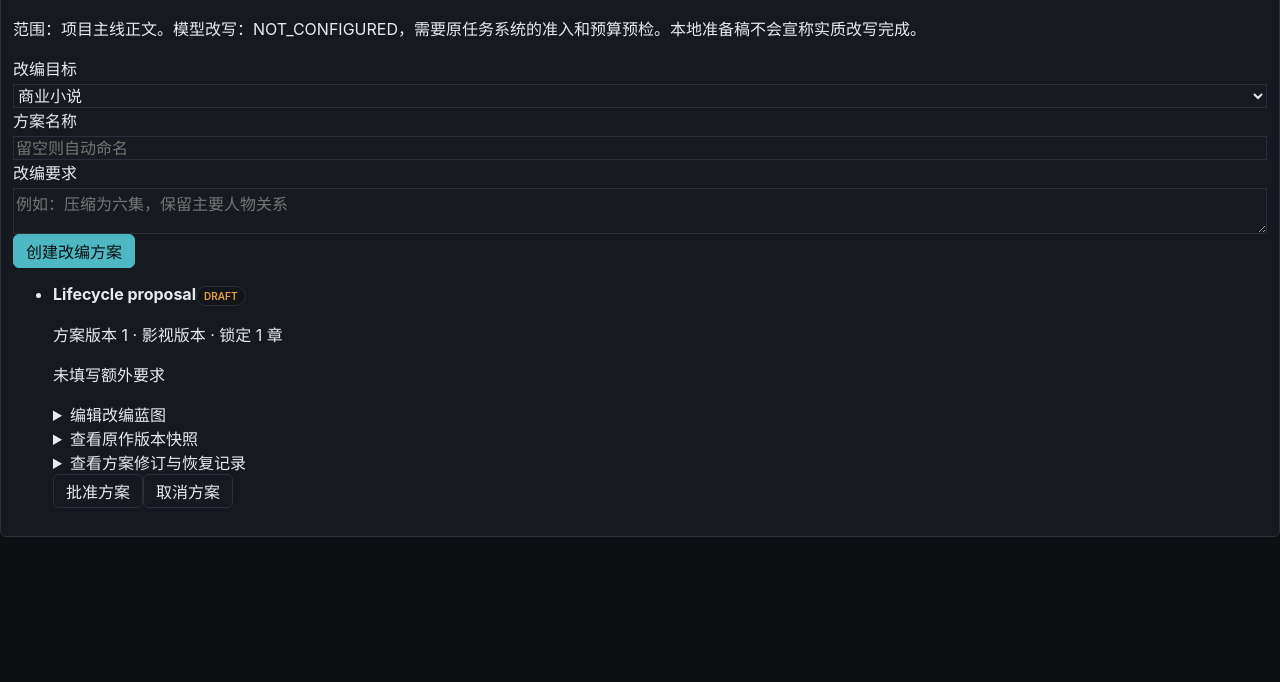
releases pending state after a failed save without losing or silently rebasing the local edit
Expected: the text "Lifecycle proposal" is shown, top-left (53, 284), bottom-right (196, 304)
Click the heading "编辑改编蓝图" at (118, 415), box top-left (70, 405), bottom-right (166, 425)
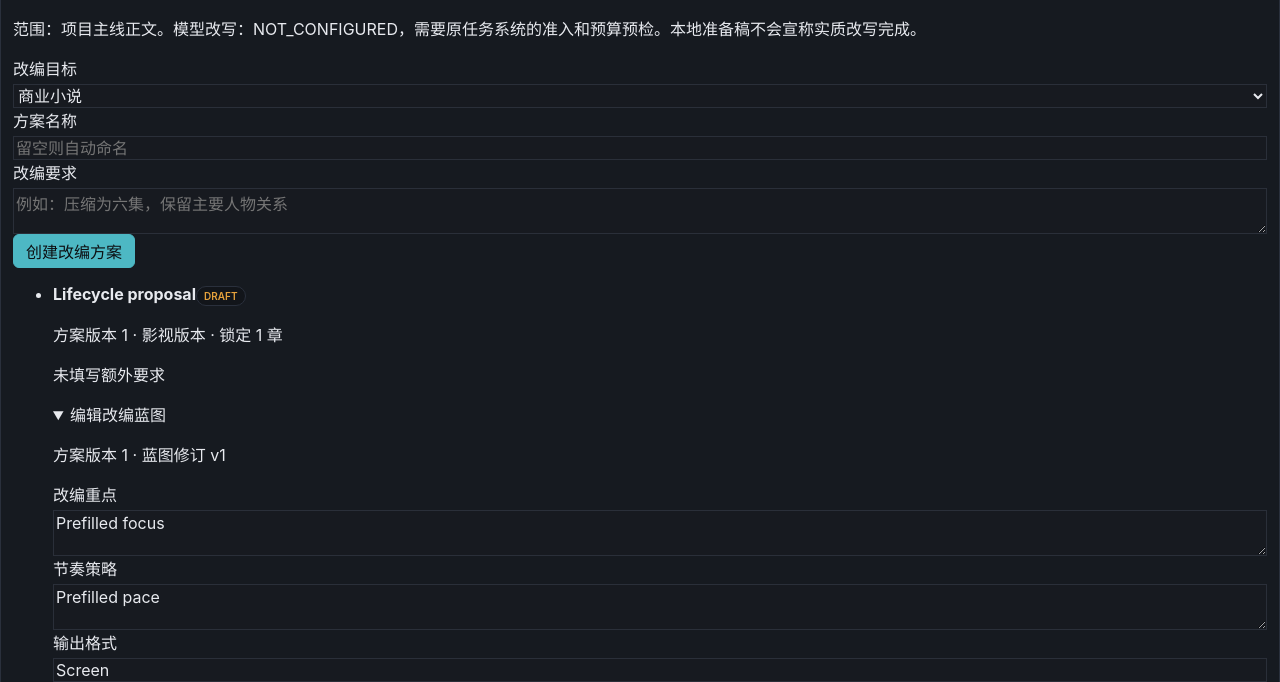
Replace the text in the text box labelled "改编重点" with "Preserve this draft" at (660, 533), box top-left (53, 510), bottom-right (1267, 556)
(page scrolled)
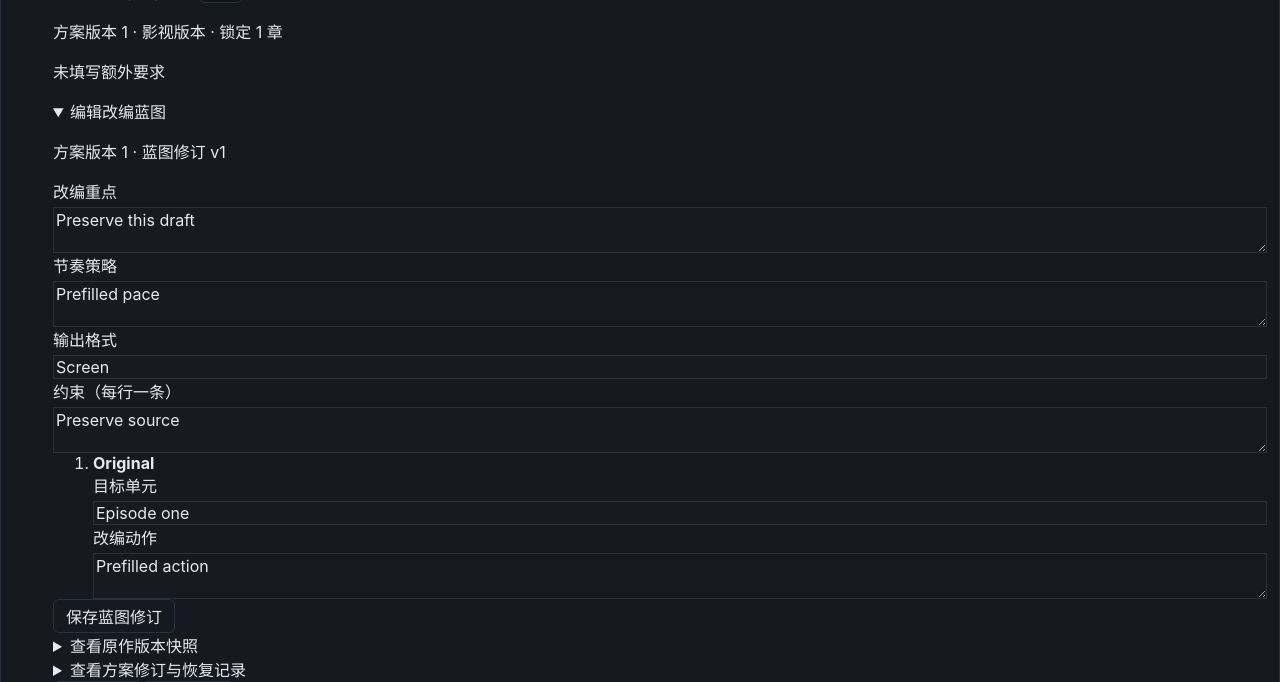
Click the button "保存蓝图修订" at (114, 616), box top-left (53, 599), bottom-right (175, 633)
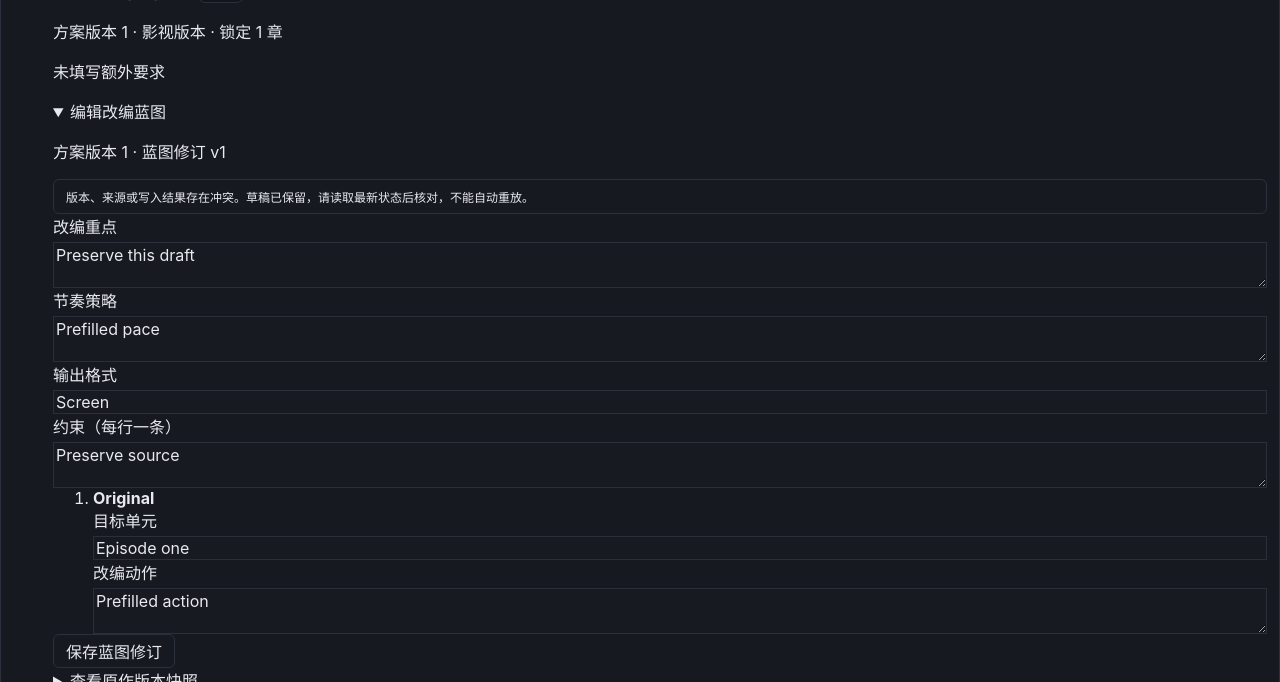
Result: the text box labelled "改编重点" is enabled at top-left (53, 242), bottom-right (1267, 288)
Result: the message "版本、来源或写入结果存在冲突。草稿已保留，请读取最新状态后核对，不能自动重放。" is shown at top-left (53, 179), bottom-right (1267, 214)
